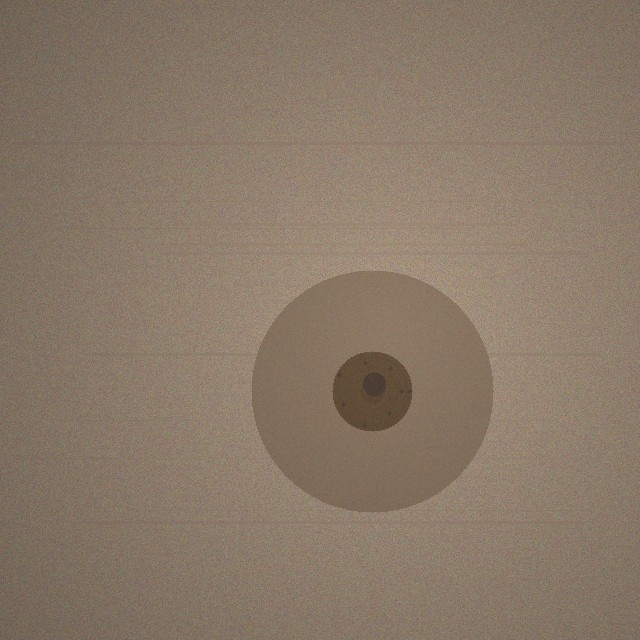cold_weld: (251, 270, 493, 512)
